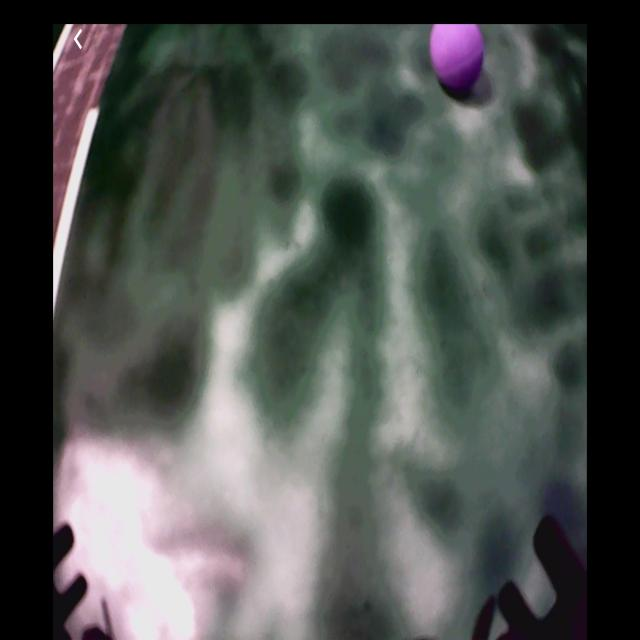ball: (431, 25, 485, 95)
